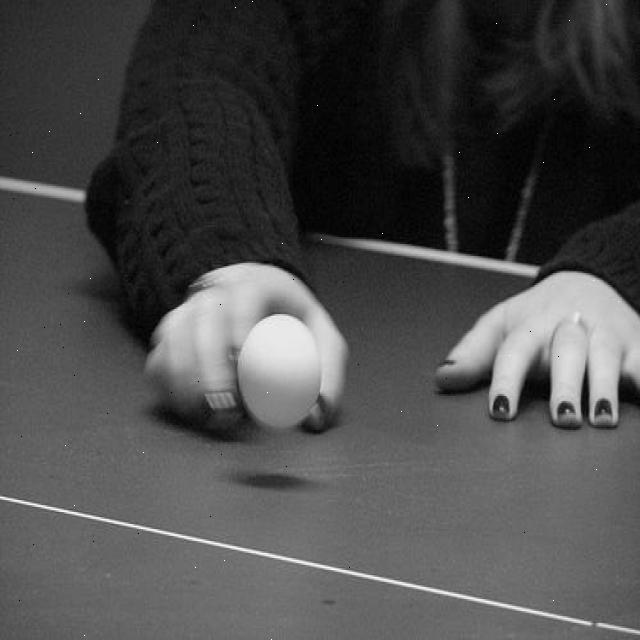ping-pong-ball: (236, 311, 324, 432)
